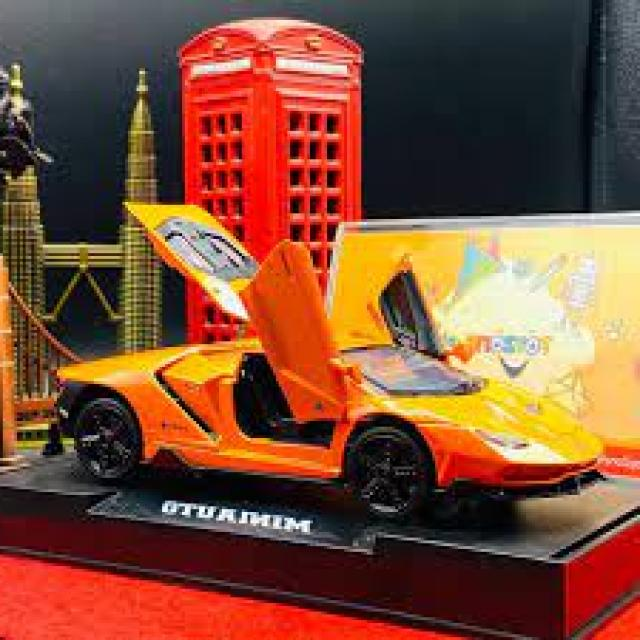Car: (42, 196, 608, 524)
